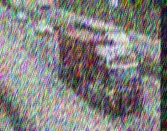truck: (59, 27, 145, 113), (75, 17, 135, 54), (35, 0, 56, 8)
